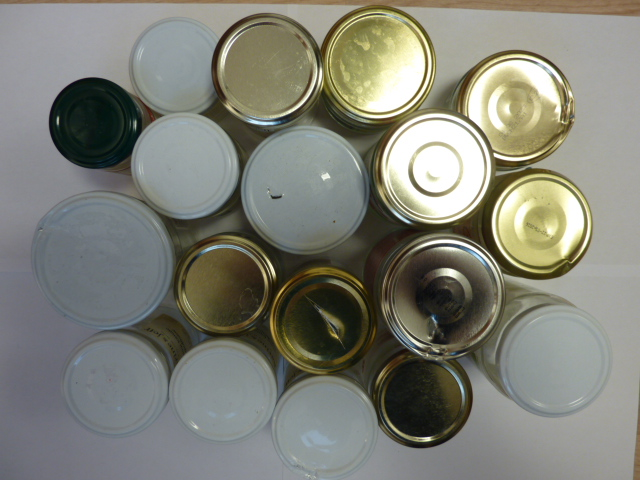intact: (172, 342, 278, 444), (378, 351, 474, 451)
